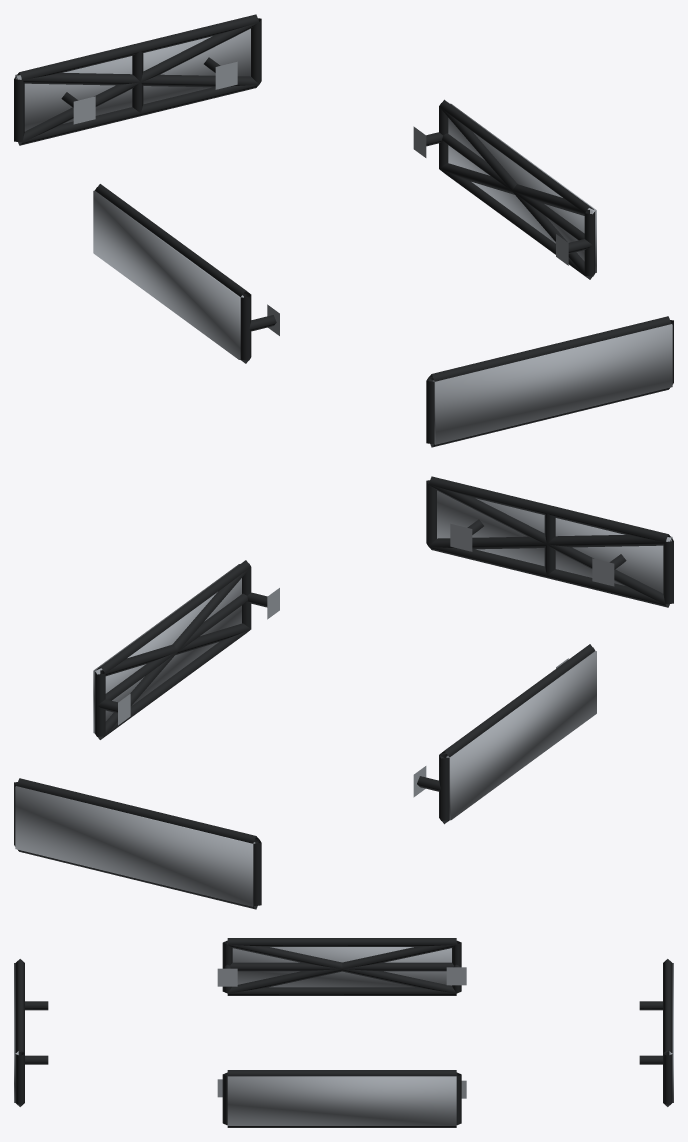
File: hoshino_penca_protecao.glb
3 views of the same model, one above another, from view 1: azimuth 30°, elevation 25°; view 2: azimuth 150°, elevation 25°; view 3: azimuth 270°, elevation 25° (orthographic). The views are drawn at different scales.
Parts seen in each view (by area): view 1: Protection_front_Level3_Details, Protection_left_Level3_Details, Protection_rear_Level1_Details, Protection_rear_Level3_Details, Protection_right_Level1_Details, Protection_rear_Level2_Details, Protection_right_Level2_Details, Protection_right_Level3_Details, Protection_front_Level1_Details, Protection_left_Level1_Details; view 2: Protection_rear_Level3_Details, Protection_left_Level3_Details, Protection_front_Level1_Details, Protection_front_Level3_Details, Protection_right_Level1_Details, Protection_front_Level2_Details, Protection_right_Level2_Details, Protection_right_Level3_Details, Protection_rear_Level1_Details, Protection_left_Level1_Details; view 3: Protection_right_Level3_Details, Protection_left_Level2_Details, Protection_left_Level1_Details, Protection_left_Level3_Details, Protection_right_Level1_Details, Protection_rear_Level1_Details, Protection_front_Level1_Details.
Part boxes in pixels (left/top/right/bottom): Protection_front_Level3_Details: left=432, top=324, right=672, bottom=444; Protection_left_Level3_Details: left=93, top=190, right=243, bottom=359; Protection_rear_Level1_Details: left=14, top=14, right=261, bottom=145; Protection_rear_Level3_Details: left=15, top=28, right=250, bottom=131; Protection_right_Level1_Details: left=413, top=99, right=595, bottom=279; Protection_rear_Level2_Details: left=16, top=22, right=258, bottom=144; Protection_right_Level2_Details: left=439, top=107, right=594, bottom=279; Protection_right_Level3_Details: left=448, top=103, right=596, bottom=272; Protection_front_Level1_Details: left=426, top=316, right=673, bottom=447; Protection_left_Level1_Details: left=95, top=184, right=279, bottom=363; Protection_rear_Level3_Details: left=15, top=786, right=255, bottom=906; Protection_left_Level3_Details: left=446, top=651, right=596, bottom=820; Protection_front_Level1_Details: left=426, top=476, right=673, bottom=607; Protection_front_Level3_Details: left=437, top=490, right=672, bottom=593; Protection_right_Level1_Details: left=94, top=560, right=279, bottom=739; Protection_front_Level2_Details: left=429, top=484, right=671, bottom=606; Protection_right_Level2_Details: left=95, top=567, right=250, bottom=739; Protection_right_Level3_Details: left=93, top=564, right=241, bottom=733; Protection_rear_Level1_Details: left=14, top=778, right=261, bottom=909; Protection_left_Level1_Details: left=413, top=644, right=595, bottom=824; Protection_right_Level3_Details: left=227, top=1076, right=456, bottom=1125; Protection_left_Level2_Details: left=227, top=941, right=457, bottom=993; Protection_left_Level1_Details: left=217, top=938, right=466, bottom=995; Protection_left_Level3_Details: left=232, top=947, right=451, bottom=987; Protection_right_Level1_Details: left=217, top=1070, right=466, bottom=1127; Protection_rear_Level1_Details: left=639, top=959, right=672, bottom=1106; Protection_front_Level1_Details: left=15, top=959, right=48, bottom=1106.
Bounding box in the file's own units: 1.8 × 0.354 × 3.66.
1 material, 1 textured.
